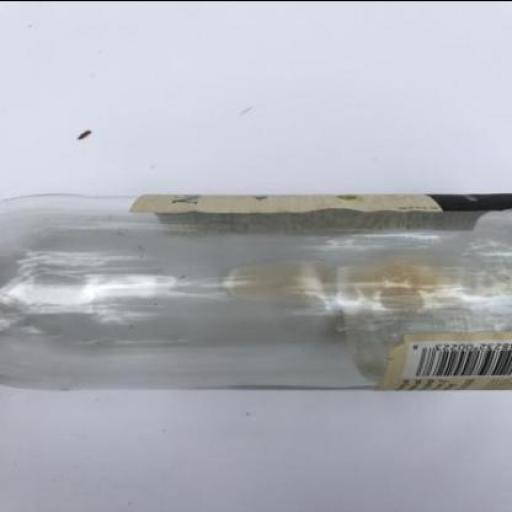glass: (1, 188, 511, 390)
